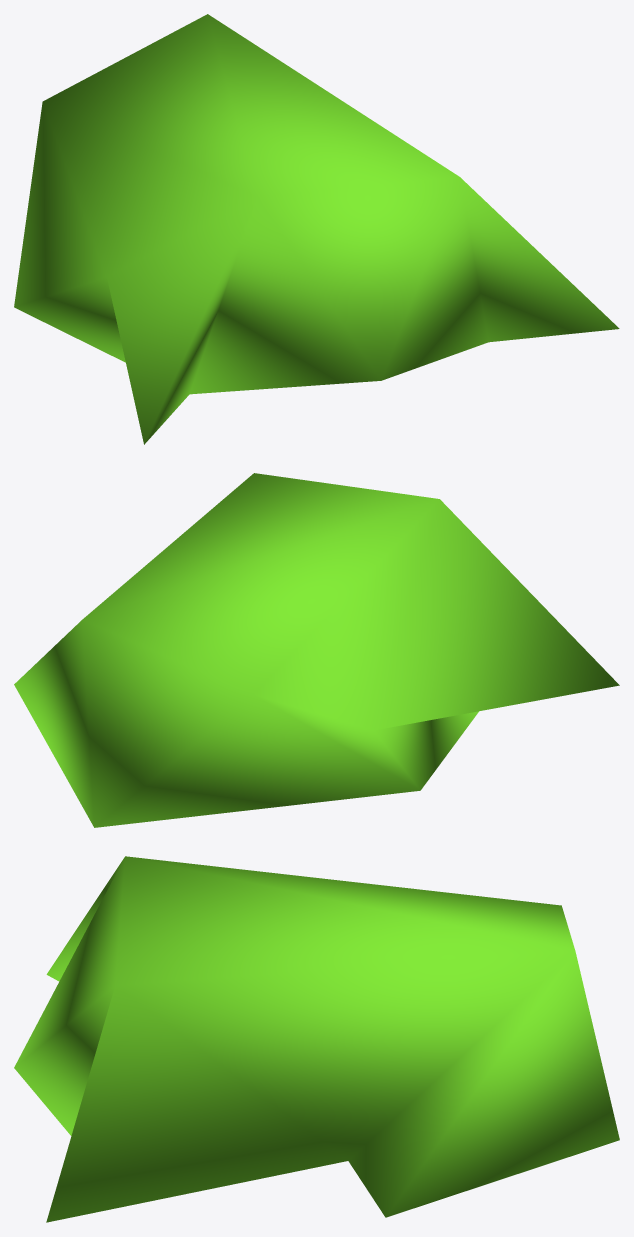
Rendered from Frog_3.fbx.
3 renders of one model, top to bottom at view 1: azimuth 30°, elevation 25°; view 2: azimuth 150°, elevation 25°; view 3: azimuth 270°, elevation 25°, orthographic. The views are drawn at different scales.
Visible parts, largest first — view 1: Cube.059; view 2: Cube.059; view 3: Cube.059.
Boxes of the visible parts, <box> form: Cube.059: <box>14,14,619,444</box>; Cube.059: <box>14,473,619,827</box>; Cube.059: <box>14,856,619,1222</box>.
Bounding box in the file's own units: 27.79 × 11.36 × 28.7.
